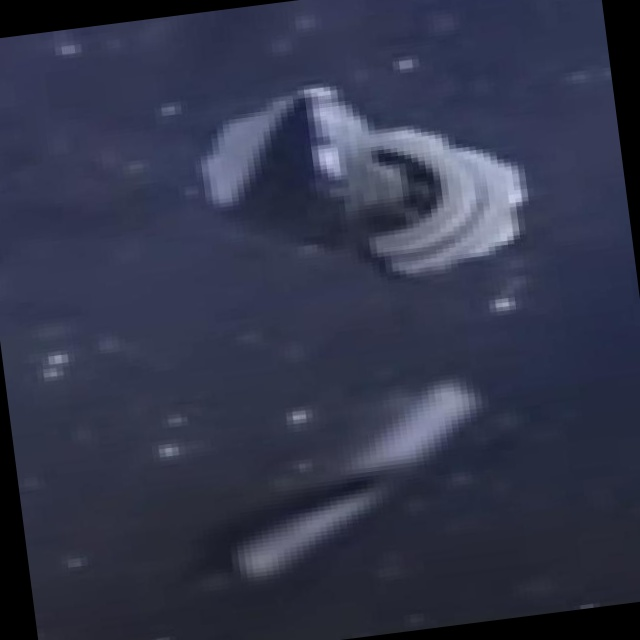large_debris: (164, 28, 575, 320), (172, 320, 539, 603)
